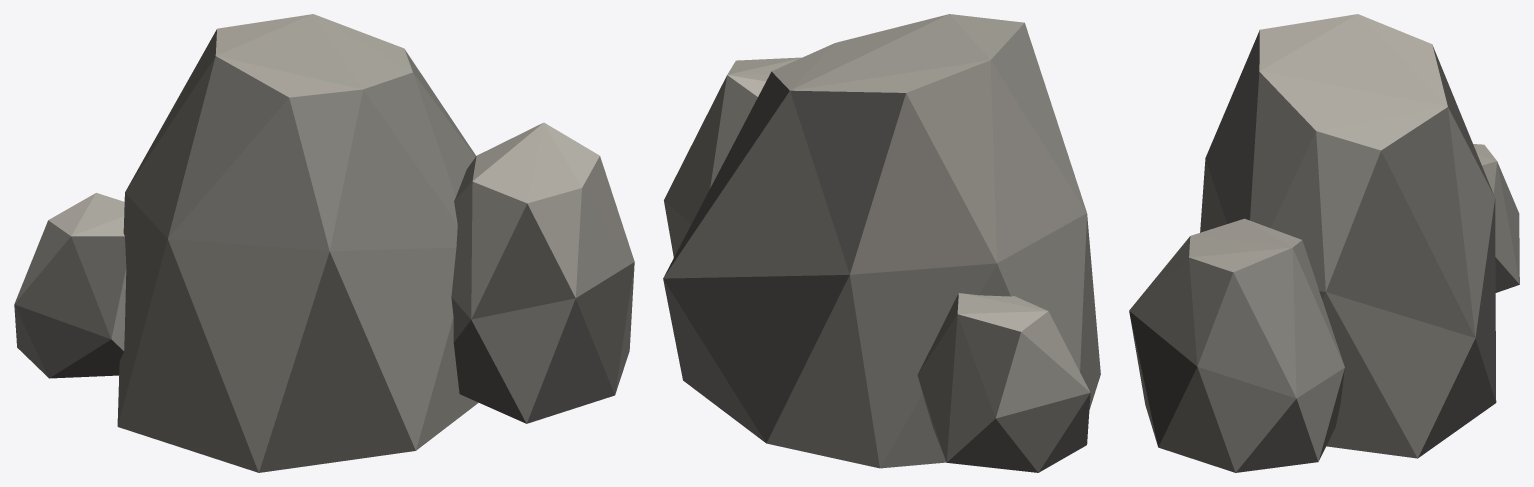
The model's file is rock_b.glb.
The picture shows the model from 3 angles, left to right: view 1: azimuth 30°, elevation 25°; view 2: azimuth 150°, elevation 25°; view 3: azimuth 270°, elevation 25°; orthographic projection. The views are drawn at different scales.
Parts seen in each view (by area): view 1: rock_b__mesh; view 2: rock_b__mesh; view 3: rock_b__mesh.
Part boxes in pixels (x1=…): rock_b__mesh: x1=14, y1=14, x2=634, y2=472; rock_b__mesh: x1=663, y1=14, x2=1100, y2=472; rock_b__mesh: x1=1129, y1=14, x2=1519, y2=472.
Bounding box in the file's own units: 2.1 × 1.42 × 1.54.
1 material, 1 textured.
